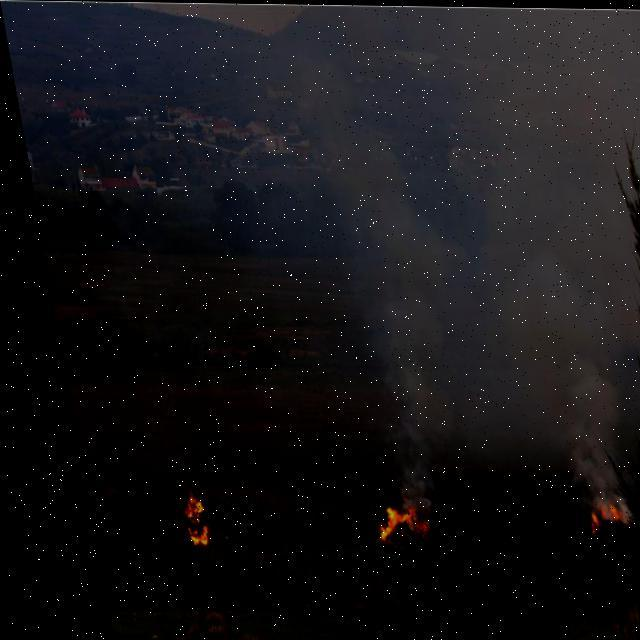Fire: (354, 501, 410, 543), (158, 489, 189, 546), (565, 497, 604, 531)
